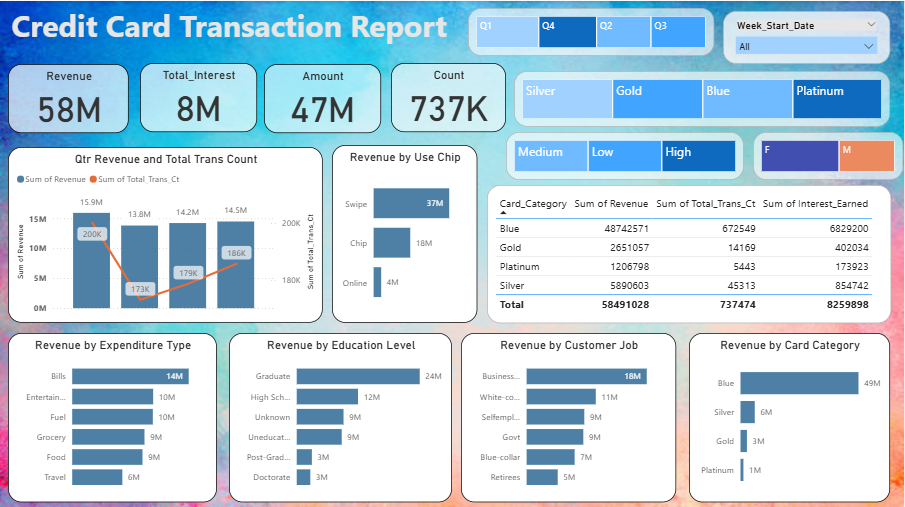

What the dashboard file says about the page in this screenshot:
{"tool":"powerbi","page":{"name":"CC Transaction","canvas":[1280,720],"ordinal":2},"visuals":[{"type":"textbox","box":[11.3,0,642,78],"z":0},{"type":"lineStackedColumnComboChart","title":"Qtr Revenue and Total Trans Count","fields":{"Category":["ccdb cc_detail.Qtr"],"Y":["Sum(ccdb cc_detail.Revenue)"],"Y2":["Sum(ccdb cc_detail.Total_Trans_Ct)"]},"box":[11.3,206.9,446.5,249.4],"z":1000},{"type":"barChart","title":" Revenue by Expenditure Type","fields":{"Y":["Sum(ccdb cc_detail.Revenue)"],"Category":["ccdb cc_detail.Exp_Type"]},"box":[11.3,470.6,296.2,239.5],"z":2000},{"type":"barChart","title":"Revenue by Education Level","fields":{"Y":["Sum(ccdb cc_detail.Revenue)"],"Category":["ccdb cust_detail.Education_Level"]},"box":[324.6,470.6,316.1,239.5],"z":3000},{"type":"barChart","title":"Revenue by Customer Job","fields":{"Y":["Sum(ccdb cc_detail.Revenue)"],"Category":["ccdb cust_detail.Customer_Job"]},"box":[653.4,470.6,304.7,239.5],"z":4000},{"type":"barChart","title":"Revenue by Card Category","fields":{"Y":["Sum(ccdb cc_detail.Revenue)"],"Category":["ccdb cc_detail.Card_Category"]},"box":[976.5,470.6,284.9,239.5],"z":5000},{"type":"barChart","title":"Revenue by Use Chip","fields":{"Y":["Sum(ccdb cc_detail.Revenue)"],"Category":["ccdb cc_detail.Use_Chip"]},"box":[470.6,204.1,205.5,252.3],"z":6000},{"type":"tableEx","fields":{"Values":["ccdb cc_detail.Card_Category","Sum(ccdb cc_detail.Revenue)","Sum(ccdb cc_detail.Total_Trans_Ct)","Sum(ccdb cc_detail.Interest_Earned)"]},"box":[690.2,260.8,572.6,195.6],"z":7000},{"type":"card","title":"Revenue","fields":{"Values":["Sum(ccdb cc_detail.Revenue)"]},"box":[11.3,89.3,171.5,97.8],"z":8000},{"type":"card","title":"Total_Interest","fields":{"Values":["Sum(ccdb cc_detail.Interest_Earned)"]},"box":[198.4,87.9,165.8,97.8],"z":9000},{"type":"card","title":"Amount","fields":{"Values":["Sum(ccdb cc_detail.Total_Trans_Amt)"]},"box":[374.2,89.3,165.8,97.8],"z":10000},{"type":"card","title":"Count","fields":{"Values":["Sum(ccdb cc_detail.Total_Trans_Ct)"]},"box":[554.2,87.9,163,97.8],"z":11000},{"type":"slicer","fields":{"Values":["ccdb cc_detail.Week_Start_Date"]},"box":[1024.7,14.2,236.7,75.1],"z":12000},{"type":"treemap","fields":{"Group":["ccdb cc_detail.Qtr"],"Values":["CountNonNull(ccdb cc_detail.Week_Num)"]},"box":[663.3,9.9,348.7,68],"z":13000},{"type":"treemap","fields":{"Group":["ccdb cust_detail.Gender"],"Values":["CountNonNull(ccdb cc_detail.Client_Num)"]},"box":[1067.2,185.7,212.6,68],"z":14000},{"type":"treemap","fields":{"Group":["ccdb cc_detail.Card_Category"],"Values":["Avg(ccdb cc_detail.Client_Num)"]},"box":[728.5,99.2,532.9,79.4],"z":15000},{"type":"treemap","fields":{"Values":["Avg(ccdb cc_detail.Client_Num)"],"Group":["ccdb cust_detail.IncomeGroup"]},"box":[717.2,185.7,337.3,68],"z":16000}]}

Visuals, with their boxes in screenshot pixels (x1, y1, x2, y2), scaled from the page's 1280x720 canvas onto the 905x507 screenshot:
textbox: [8,0,462,55]
"Qtr Revenue and Total Trans Count" lineStackedColumnComboChart: [8,146,324,321]
" Revenue by Expenditure Type" barChart: [8,331,217,500]
"Revenue by Education Level" barChart: [230,331,453,500]
"Revenue by Customer Job" barChart: [462,331,677,500]
"Revenue by Card Category" barChart: [690,331,892,500]
"Revenue by Use Chip" barChart: [333,144,478,321]
tableEx - ccdb cc_detail.Card_Category x Sum(ccdb cc_detail.Revenue): [488,184,893,321]
"Revenue" card: [8,63,129,132]
"Total_Interest" card: [140,62,258,131]
"Amount" card: [265,63,382,132]
"Count" card: [392,62,507,131]
slicer - ccdb cc_detail.Week_Start_Date: [724,10,892,63]
treemap - ccdb cc_detail.Qtr x CountNonNull(ccdb cc_detail.Week_Num): [469,7,716,55]
treemap - ccdb cust_detail.Gender x CountNonNull(ccdb cc_detail.Client_Num): [755,131,904,179]
treemap - ccdb cc_detail.Card_Category x Avg(ccdb cc_detail.Client_Num): [515,70,892,126]
treemap - Avg(ccdb cc_detail.Client_Num) x ccdb cust_detail.IncomeGroup: [507,131,746,179]
